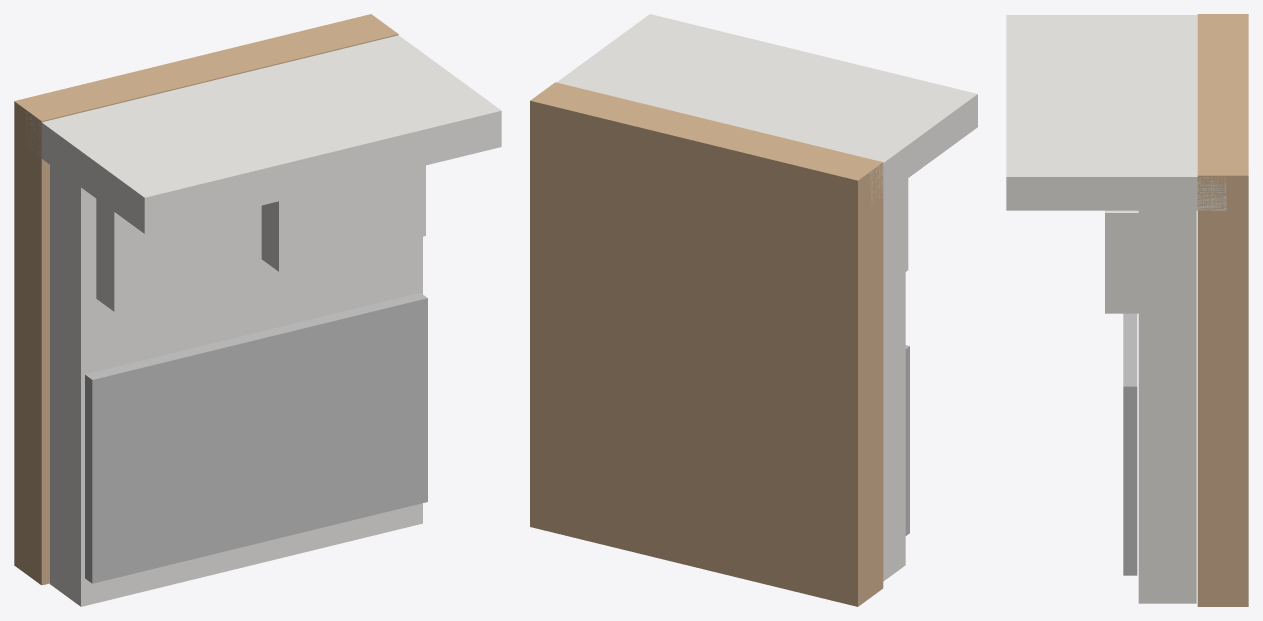
File: bed_queen.glb
3 renders of one model, left to right at view 1: azimuth 30°, elevation 25°; view 2: azimuth 150°, elevation 25°; view 3: azimuth 270°, elevation 25°, orthographic. The views are drawn at different scales.
Visible parts, largest first — view 1: world; view 2: world; view 3: world.
Part boxes in pixels (box(x1,y1,x2,y2)): world: box(14, 14, 501, 606); world: box(530, 14, 977, 606); world: box(1006, 14, 1248, 606).
Size of the model in its own units: 1.65 by 2.05 by 1.05.
